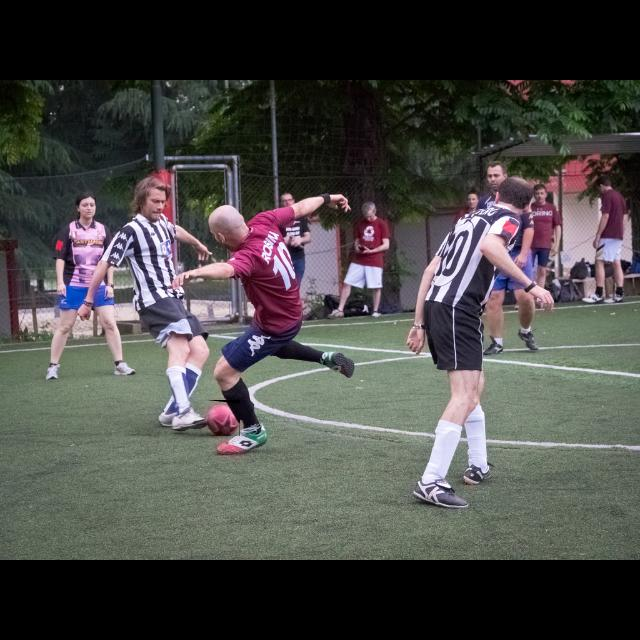Football: (206, 400, 240, 436)
